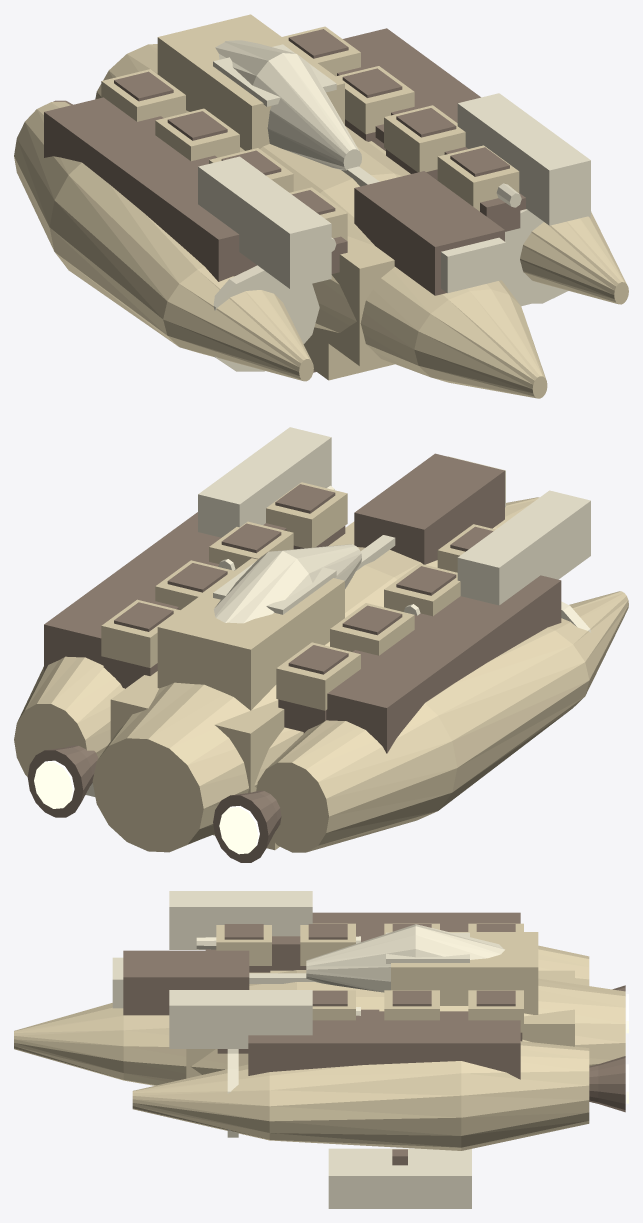
3 views of the same model, one above another, from view 1: azimuth 30°, elevation 25°; view 2: azimuth 150°, elevation 25°; view 3: azimuth 270°, elevation 25° (orthographic). The views are drawn at different scales.
Size of the model in its own units: 14.72 by 8.43 by 23.42.
